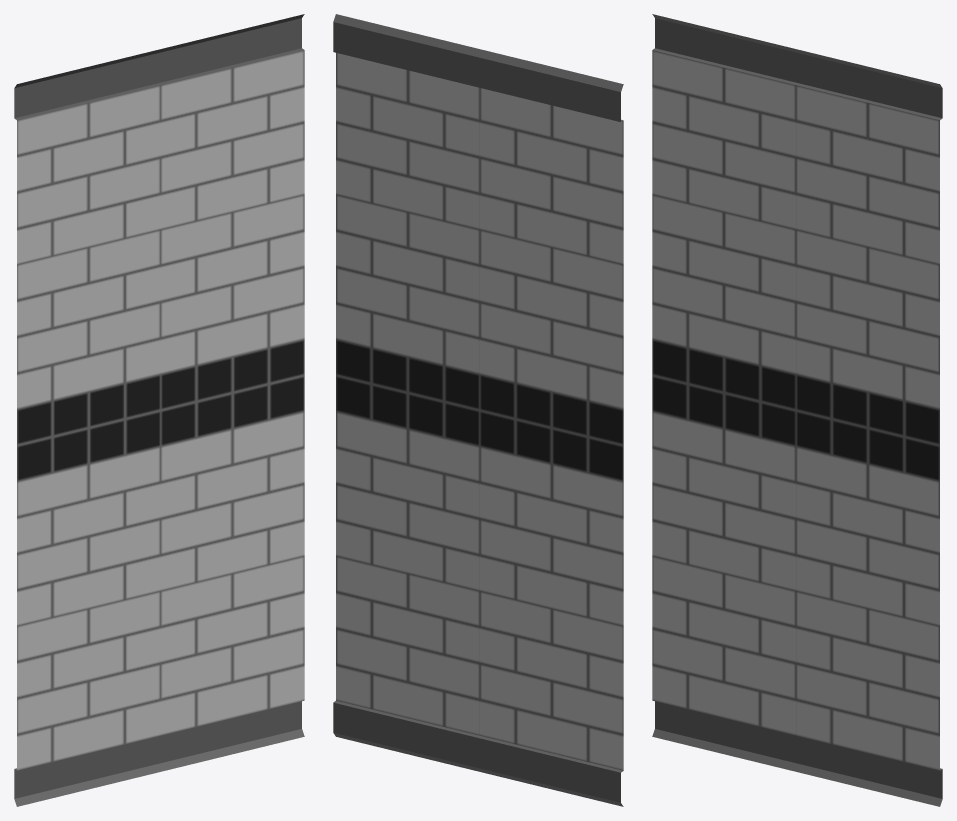
Rendered from SW_ENV_StationWall_A_1-25m.fbx.
3 renders of one model, left to right at view 1: azimuth 30°, elevation 25°; view 2: azimuth 150°, elevation 25°; view 3: azimuth 330°, elevation 25°, orthographic.
Parts seen in each view (by area): view 1: SW_ENV_StationWall_A_1-25m; view 2: SW_ENV_StationWall_A_1-25m; view 3: SW_ENV_StationWall_A_1-25m.
Part boxes in pixels (x1,y1,x2,y2): SW_ENV_StationWall_A_1-25m: [14, 14, 304, 806]; SW_ENV_StationWall_A_1-25m: [333, 14, 623, 806]; SW_ENV_StationWall_A_1-25m: [652, 14, 942, 806].
Bounding box in the file's own units: 125 × 300 × 2.
